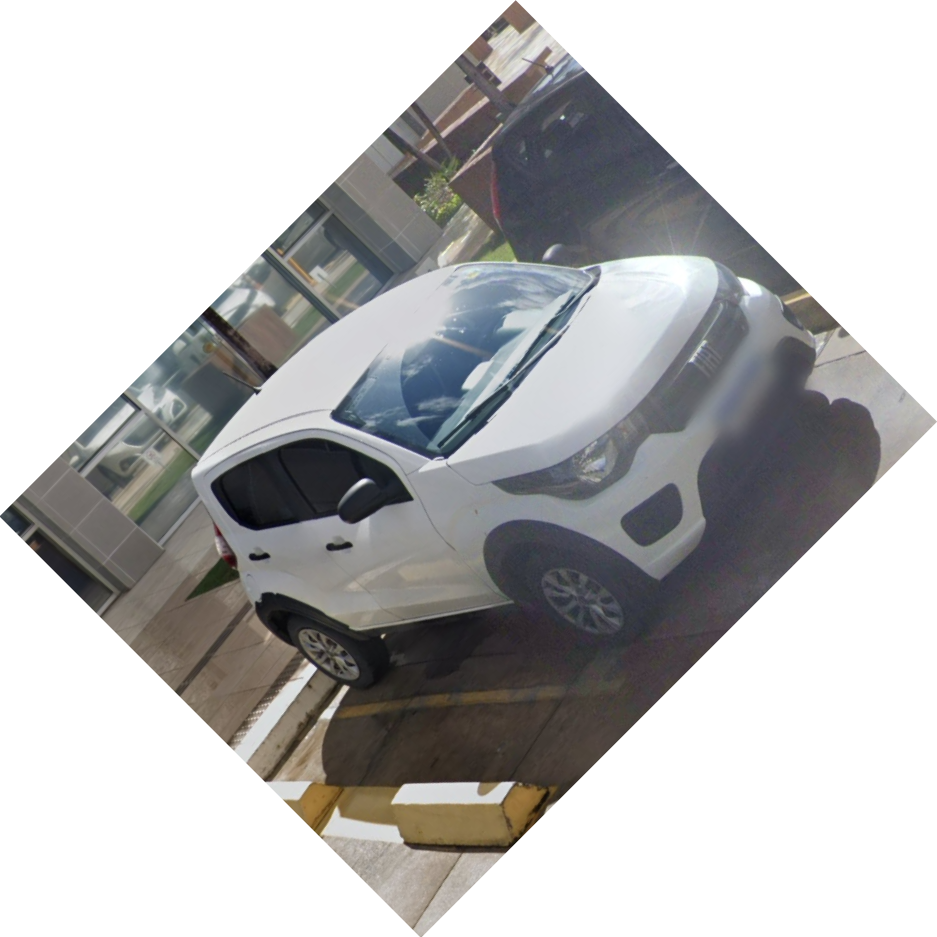car: (191, 253, 816, 721)
